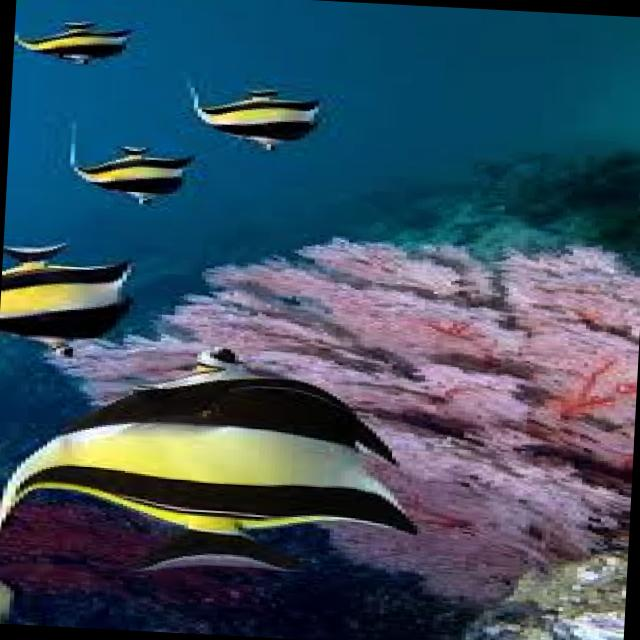MorishIdol: (0, 334, 430, 618), (0, 239, 140, 363), (66, 121, 198, 212), (183, 72, 331, 151), (13, 14, 139, 70)
